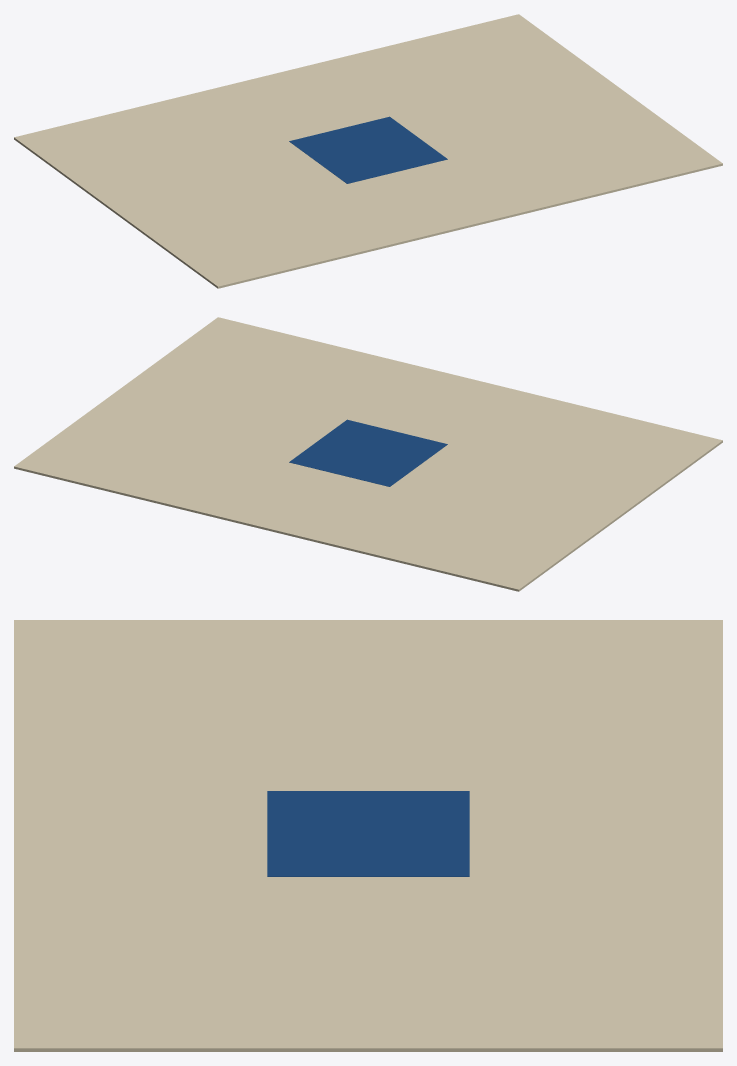
Rendered from paper.glb.
3 renders of one model, top to bottom at view 1: azimuth 30°, elevation 25°; view 2: azimuth 150°, elevation 25°; view 3: azimuth 270°, elevation 25°, orthographic. The views are drawn at different scales.
Parts seen in each view (by area): view 1: ActualPaperTopOutsideMark, ActualTransferredLayer, ActualPaperSubstrate; view 2: ActualPaperTopOutsideMark, ActualTransferredLayer, ActualPaperSubstrate; view 3: ActualPaperTopOutsideMark, ActualTransferredLayer, ActualPaperSubstrate.
Boxes of the visible parts, left/top/right/bottom form: ActualPaperTopOutsideMark: left=14, top=14, right=722, bottom=286; ActualTransferredLayer: left=289, top=116, right=447, bottom=183; ActualPaperSubstrate: left=14, top=137, right=722, bottom=288; ActualPaperTopOutsideMark: left=14, top=317, right=722, bottom=589; ActualTransferredLayer: left=289, top=419, right=447, bottom=486; ActualPaperSubstrate: left=14, top=440, right=722, bottom=591; ActualPaperTopOutsideMark: left=14, top=620, right=722, bottom=1048; ActualTransferredLayer: left=267, top=791, right=469, bottom=876; ActualPaperSubstrate: left=14, top=1048, right=722, bottom=1051.
Size of the model in its own units: 0.2 by 0.00085 by 0.14.
